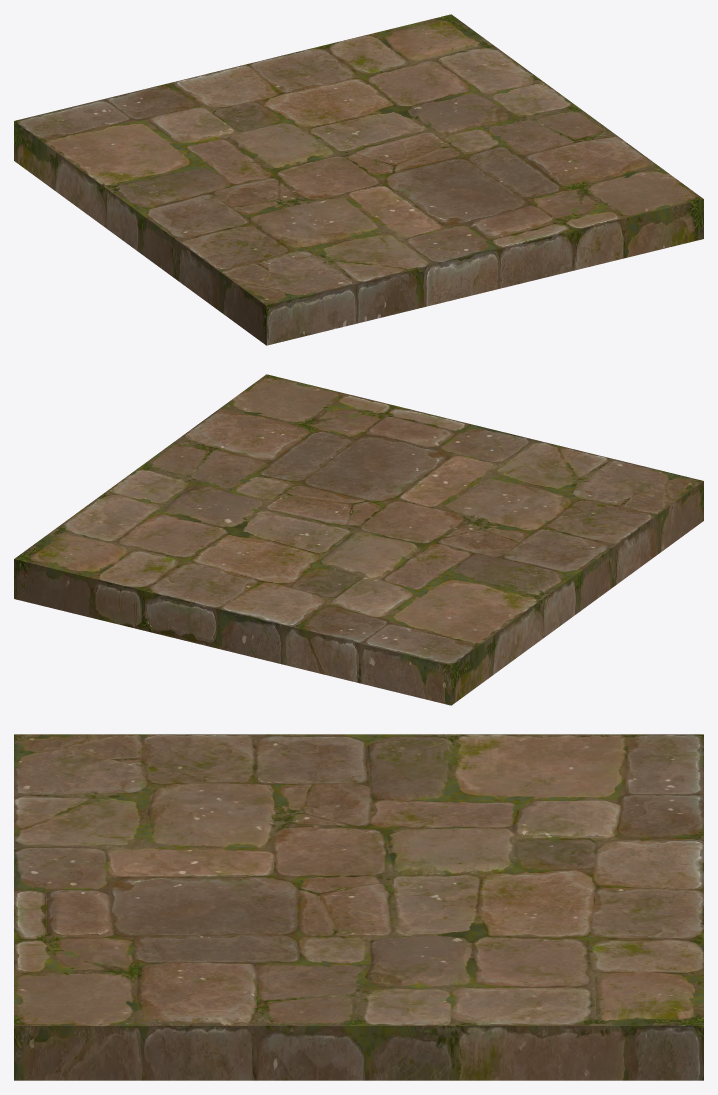
3 views of the same model, one above another, from view 1: azimuth 30°, elevation 25°; view 2: azimuth 150°, elevation 25°; view 3: azimuth 270°, elevation 25° (orthographic). The views are drawn at different scales.
Visible parts, largest first — view 1: SM_Human_Ruins_StoneFloor_02_LOD0; view 2: SM_Human_Ruins_StoneFloor_02_LOD0; view 3: SM_Human_Ruins_StoneFloor_02_LOD0.
Part boxes in pixels (<box>): SM_Human_Ruins_StoneFloor_02_LOD0: <box>14,14,703,345</box>; SM_Human_Ruins_StoneFloor_02_LOD0: <box>14,374,703,705</box>; SM_Human_Ruins_StoneFloor_02_LOD0: <box>14,734,703,1080</box>.
Size of the model in its own units: 4 by 0.3733 by 4.
Materials: 1 (1 with a texture image).
